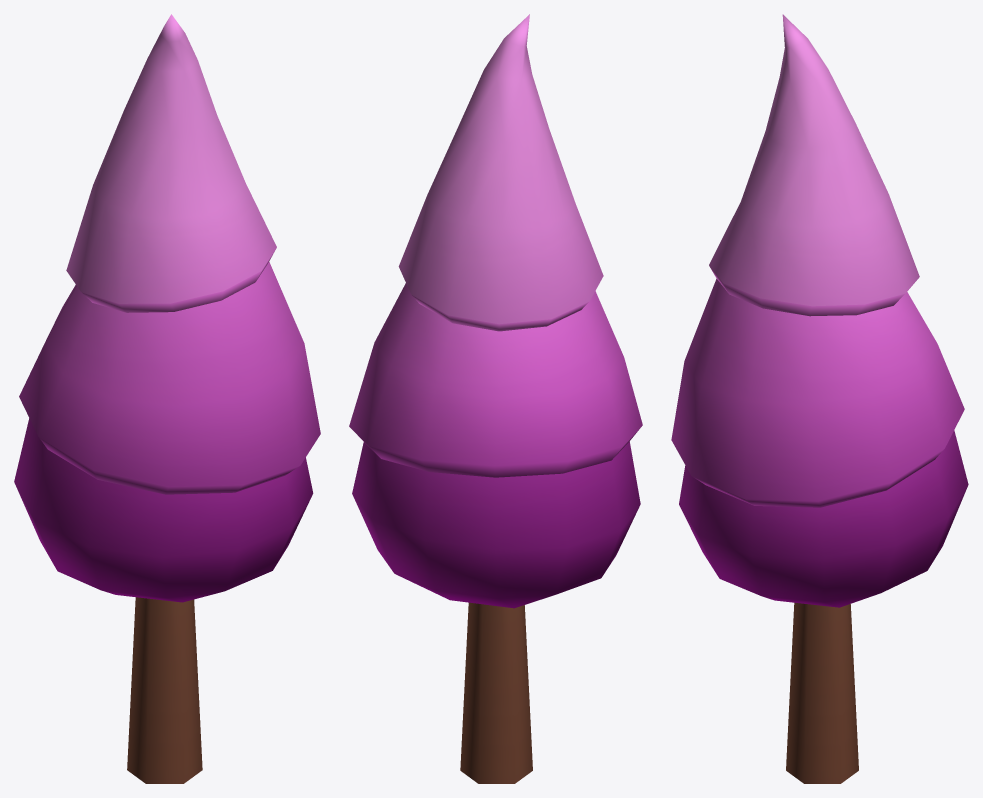
The model's file is Tree_02.glb.
3 renders of one model, left to right at view 1: azimuth 30°, elevation 25°; view 2: azimuth 150°, elevation 25°; view 3: azimuth 270°, elevation 25°, orthographic. The views are drawn at different scales.
Parts seen in each view (by area): view 1: Tree_02; view 2: Tree_02; view 3: Tree_02.
Boxes of the visible parts, box(x1,y1,x2,y2) form: Tree_02: box(14, 14, 320, 783); Tree_02: box(349, 14, 642, 783); Tree_02: box(671, 14, 968, 783).
Size of the model in its own units: 2.29 by 6.41 by 2.3.
1 material, 1 textured.
